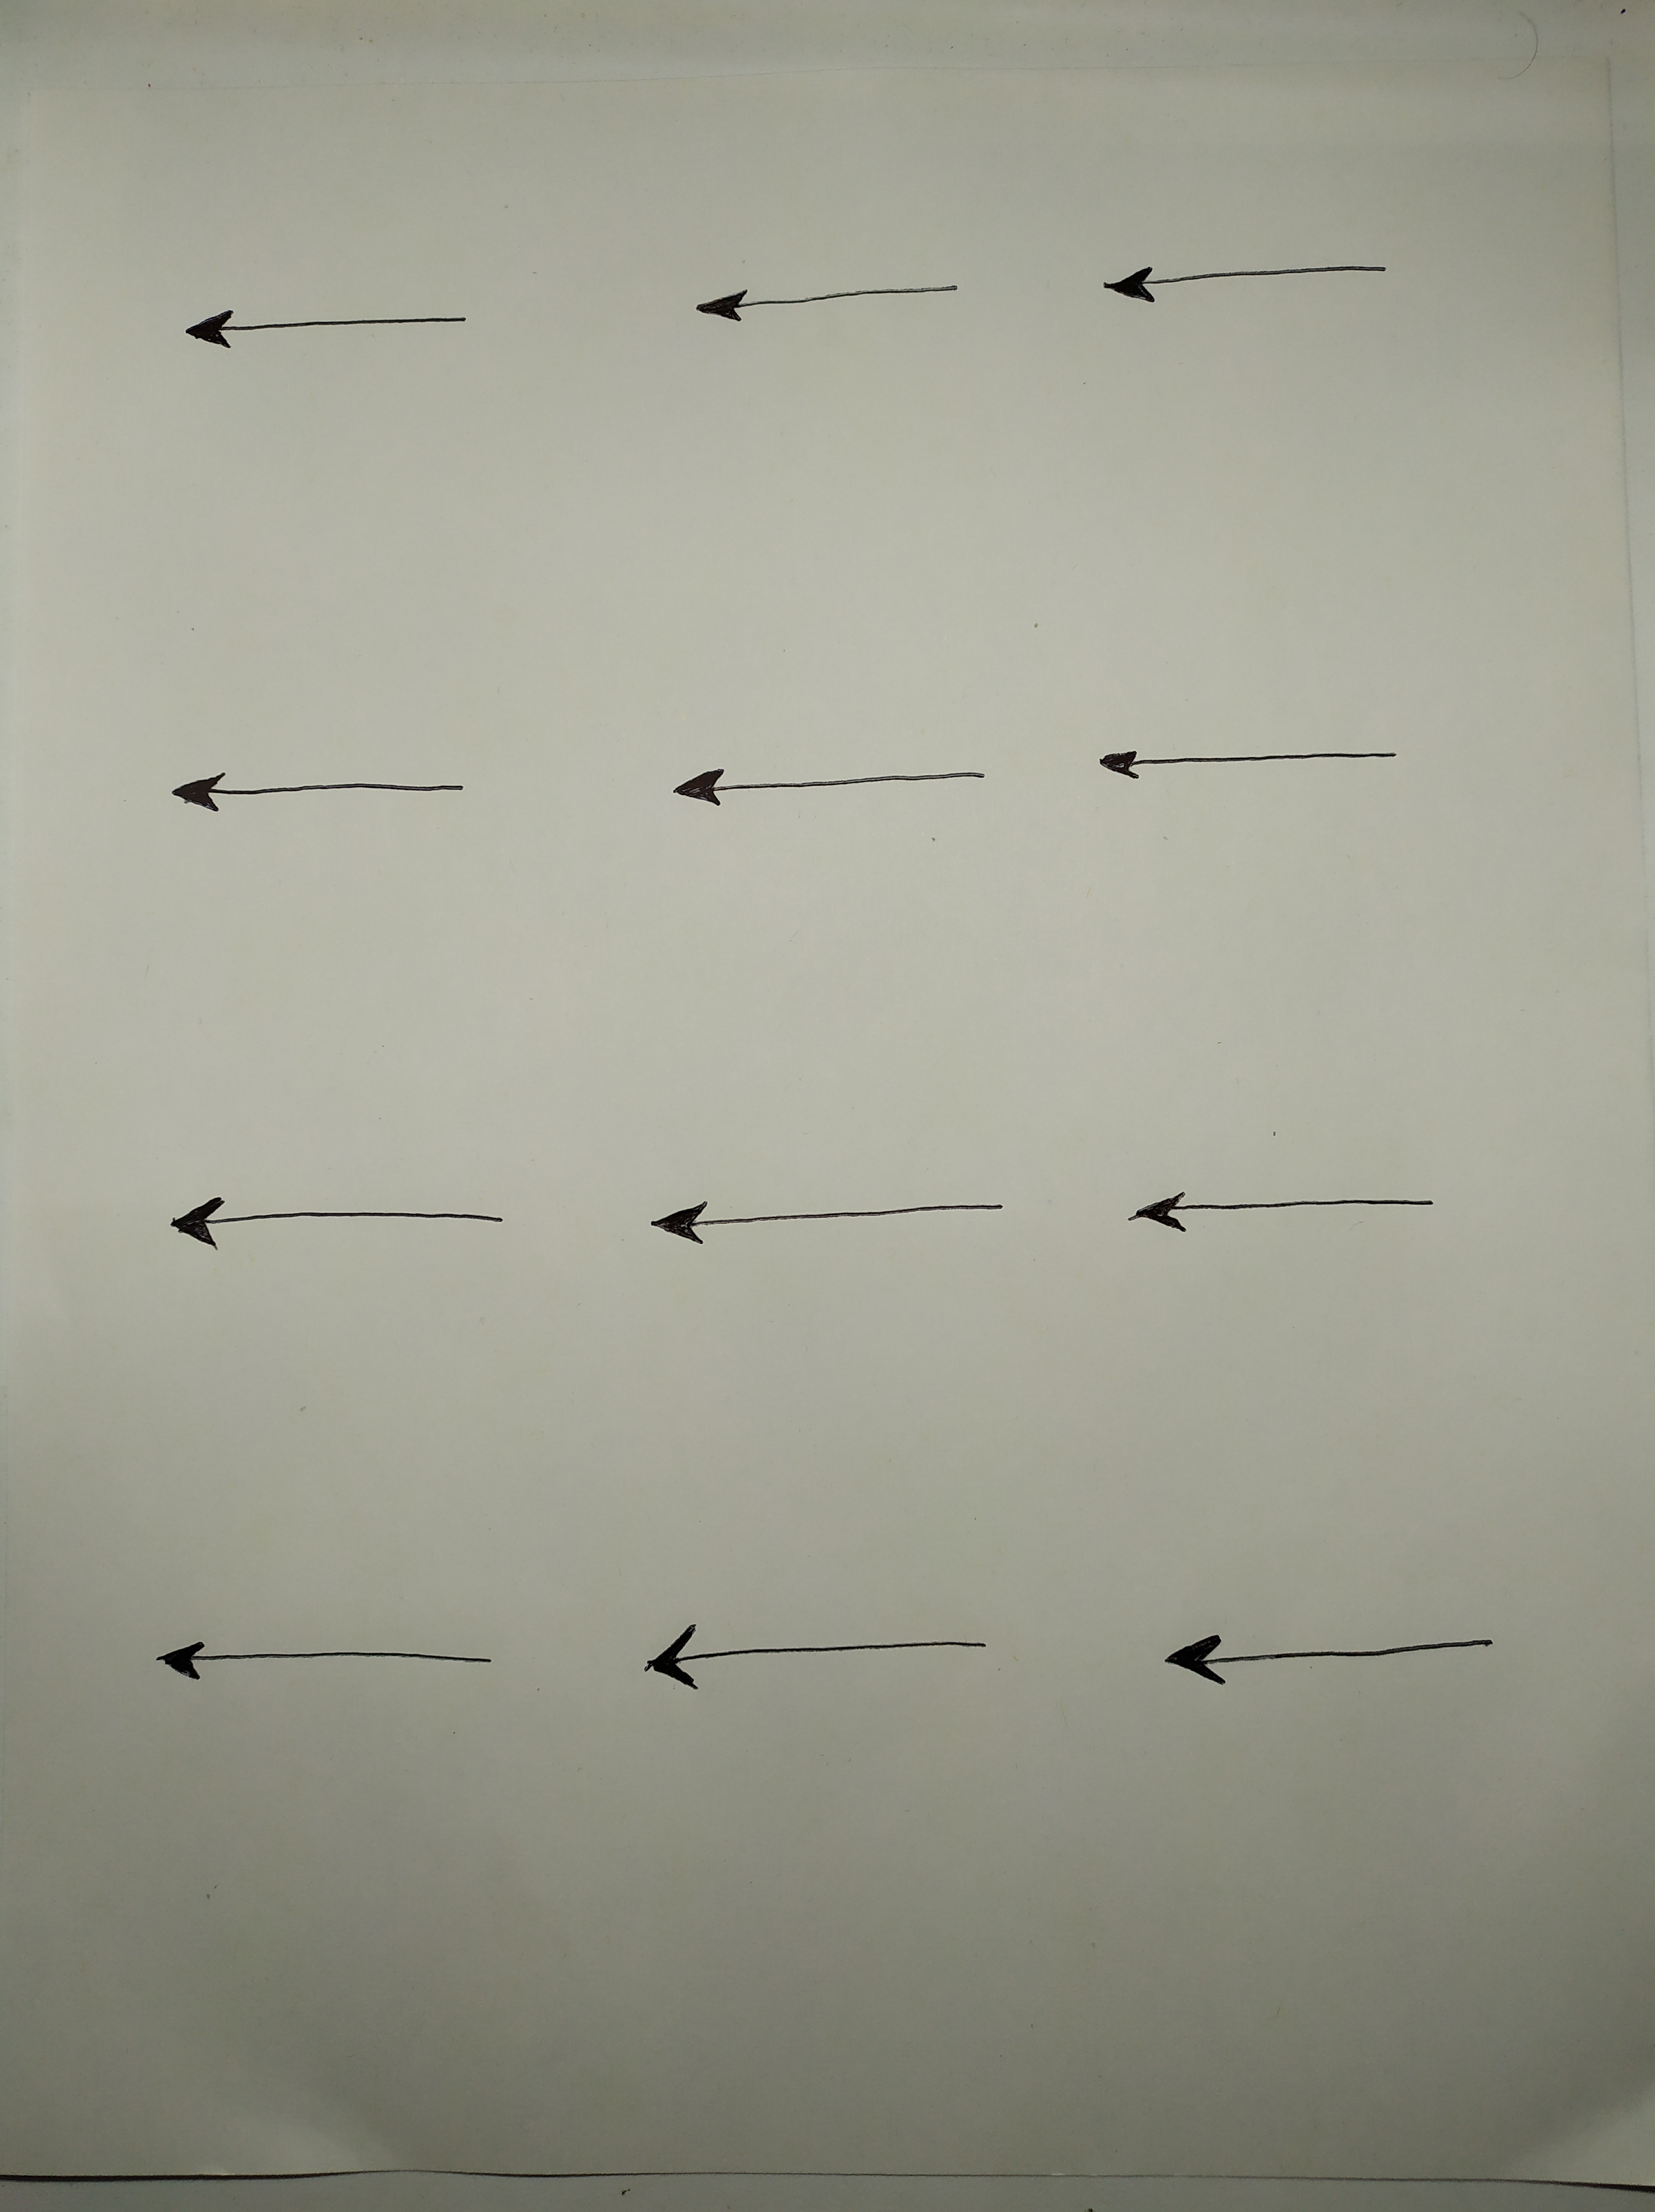arrow_line_left: (600, 1604, 1034, 1703), (1118, 1606, 1542, 1696), (141, 1169, 520, 1263), (635, 740, 1019, 832), (139, 742, 515, 834), (141, 271, 509, 363), (134, 1618, 520, 1705), (617, 1178, 1027, 1258), (1052, 723, 1431, 805), (1113, 1168, 1466, 1251), (671, 264, 986, 353), (1088, 243, 1452, 309)
